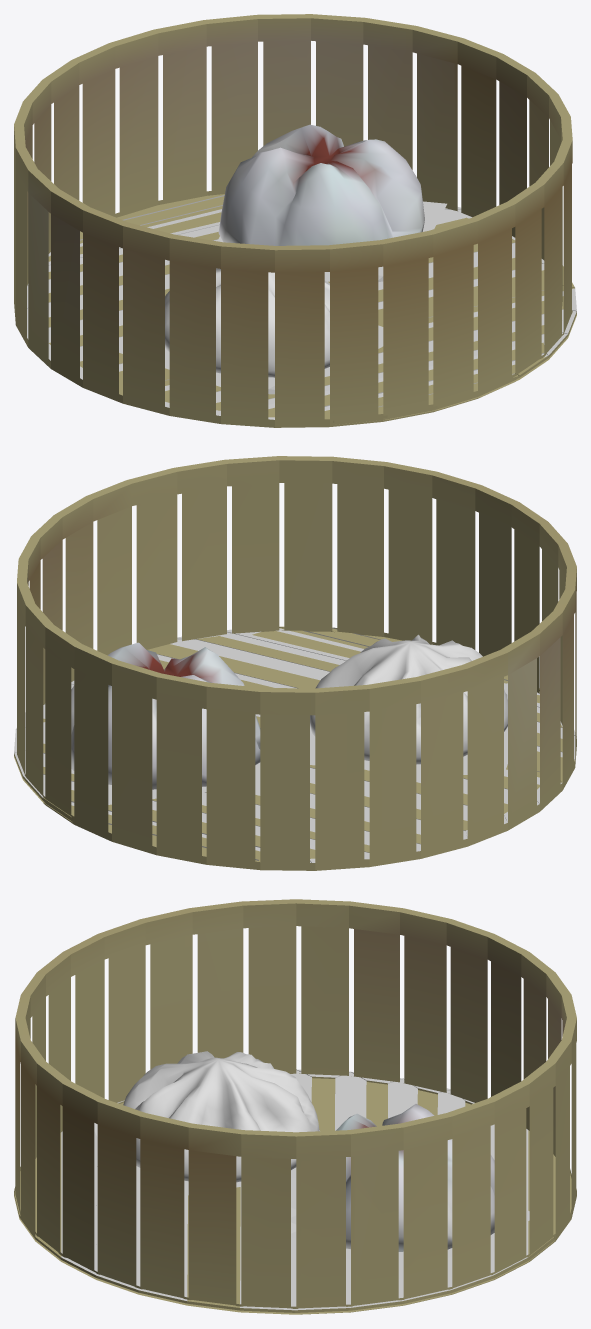
Rendered from cha-siu-bao.gltf.
3 views of the same model, one above another, from view 1: azimuth 30°, elevation 25°; view 2: azimuth 150°, elevation 25°; view 3: azimuth 270°, elevation 25° (orthographic).
Parts seen in each view (by area): view 1: Cylinder.010, chasiubao1, chasiubao2.001, Plane.013, Plane.014; view 2: Cylinder.010, chasiubao2.001, chasiubao1, Plane.014; view 3: Cylinder.010, chasiubao2.001, chasiubao1, Plane.013.
Part boxes in pixels (bbox=[...]): Cylinder.010: bbox=[14, 14, 576, 427]; chasiubao1: bbox=[218, 124, 424, 245]; chasiubao2.001: bbox=[165, 268, 329, 377]; Plane.013: bbox=[217, 201, 446, 281]; Plane.014: bbox=[119, 325, 383, 394]; Cylinder.010: bbox=[14, 456, 576, 870]; chasiubao2.001: bbox=[310, 634, 507, 764]; chasiubao1: bbox=[71, 642, 260, 789]; Plane.014: bbox=[310, 675, 507, 774]; Cylinder.010: bbox=[14, 899, 576, 1314]; chasiubao2.001: bbox=[123, 1051, 319, 1182]; chasiubao1: bbox=[336, 1104, 494, 1251]; Plane.013: bbox=[291, 1199, 529, 1279].
Size of the model in its own units: 14.33 by 4.98 by 14.26.
